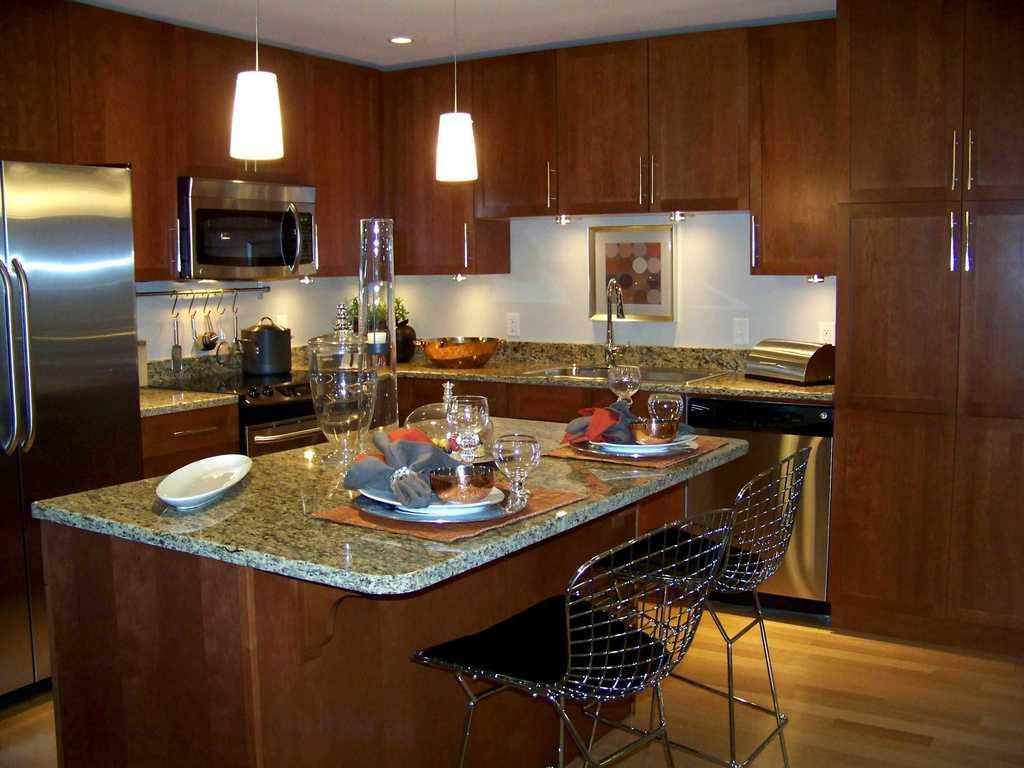cabinet_door: (84, 29, 185, 259), (845, 13, 963, 207), (840, 216, 958, 401), (751, 32, 840, 272), (647, 41, 751, 210), (312, 68, 390, 266), (555, 54, 648, 212), (398, 84, 476, 264), (963, 210, 1024, 403), (477, 72, 551, 216), (966, 29, 1024, 196), (148, 421, 230, 450)
handle: (6, 264, 48, 442), (0, 266, 29, 449), (252, 420, 312, 447), (956, 209, 978, 274), (286, 212, 308, 271), (959, 127, 979, 186), (743, 214, 763, 273), (174, 422, 220, 445), (628, 155, 647, 210), (942, 212, 958, 276), (539, 154, 555, 212), (946, 127, 960, 191), (646, 150, 660, 209), (461, 222, 476, 266)
